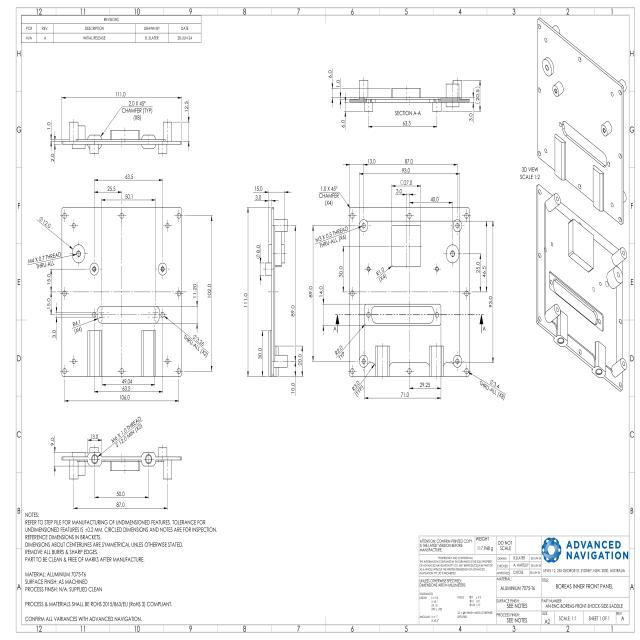dimension: (162, 314, 210, 359), (98, 414, 144, 458), (102, 100, 154, 136), (35, 214, 74, 250), (242, 206, 250, 378), (334, 323, 365, 363), (468, 371, 508, 402), (314, 224, 361, 250), (61, 90, 182, 100), (64, 393, 180, 403), (488, 220, 496, 364), (363, 156, 458, 167), (358, 166, 460, 176), (27, 249, 75, 270), (207, 215, 213, 372), (351, 362, 376, 398), (291, 225, 297, 368), (73, 501, 168, 510), (318, 184, 350, 210), (310, 225, 316, 362), (367, 119, 438, 130), (364, 390, 442, 400), (94, 172, 163, 182), (94, 488, 149, 499), (94, 386, 163, 394), (102, 377, 156, 387), (71, 316, 99, 335), (101, 193, 156, 202), (409, 195, 453, 205), (482, 220, 488, 293), (342, 156, 378, 167), (253, 184, 292, 194), (318, 282, 325, 336), (326, 66, 334, 108), (257, 330, 264, 377), (376, 265, 394, 283), (410, 380, 442, 390), (50, 434, 57, 477), (391, 178, 421, 188), (184, 96, 190, 144), (192, 282, 198, 330), (338, 246, 344, 294), (475, 253, 482, 293), (255, 244, 262, 282), (94, 184, 122, 193), (252, 194, 280, 203), (475, 78, 482, 112), (341, 92, 347, 131), (50, 311, 57, 343), (297, 345, 304, 377), (290, 367, 297, 397), (336, 76, 342, 110), (46, 120, 53, 149), (468, 92, 474, 125), (50, 135, 56, 165), (394, 188, 416, 196), (46, 268, 52, 293), (46, 292, 52, 316), (88, 432, 102, 442)
